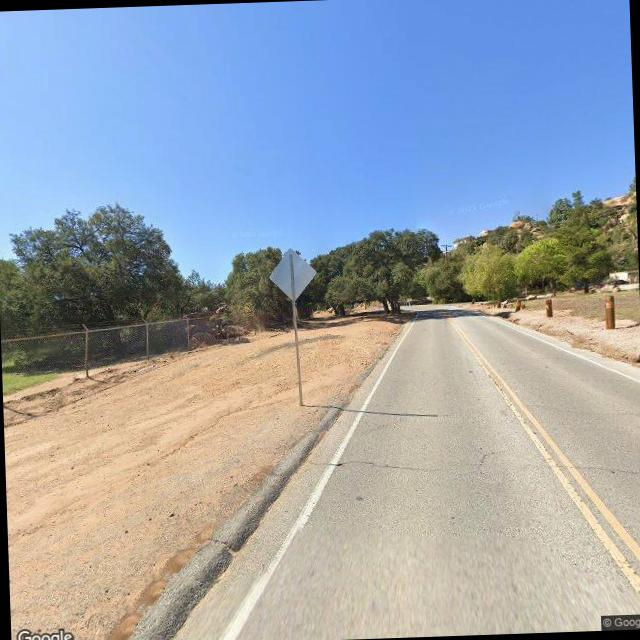crack: (306, 448, 468, 482), (564, 457, 640, 484)
